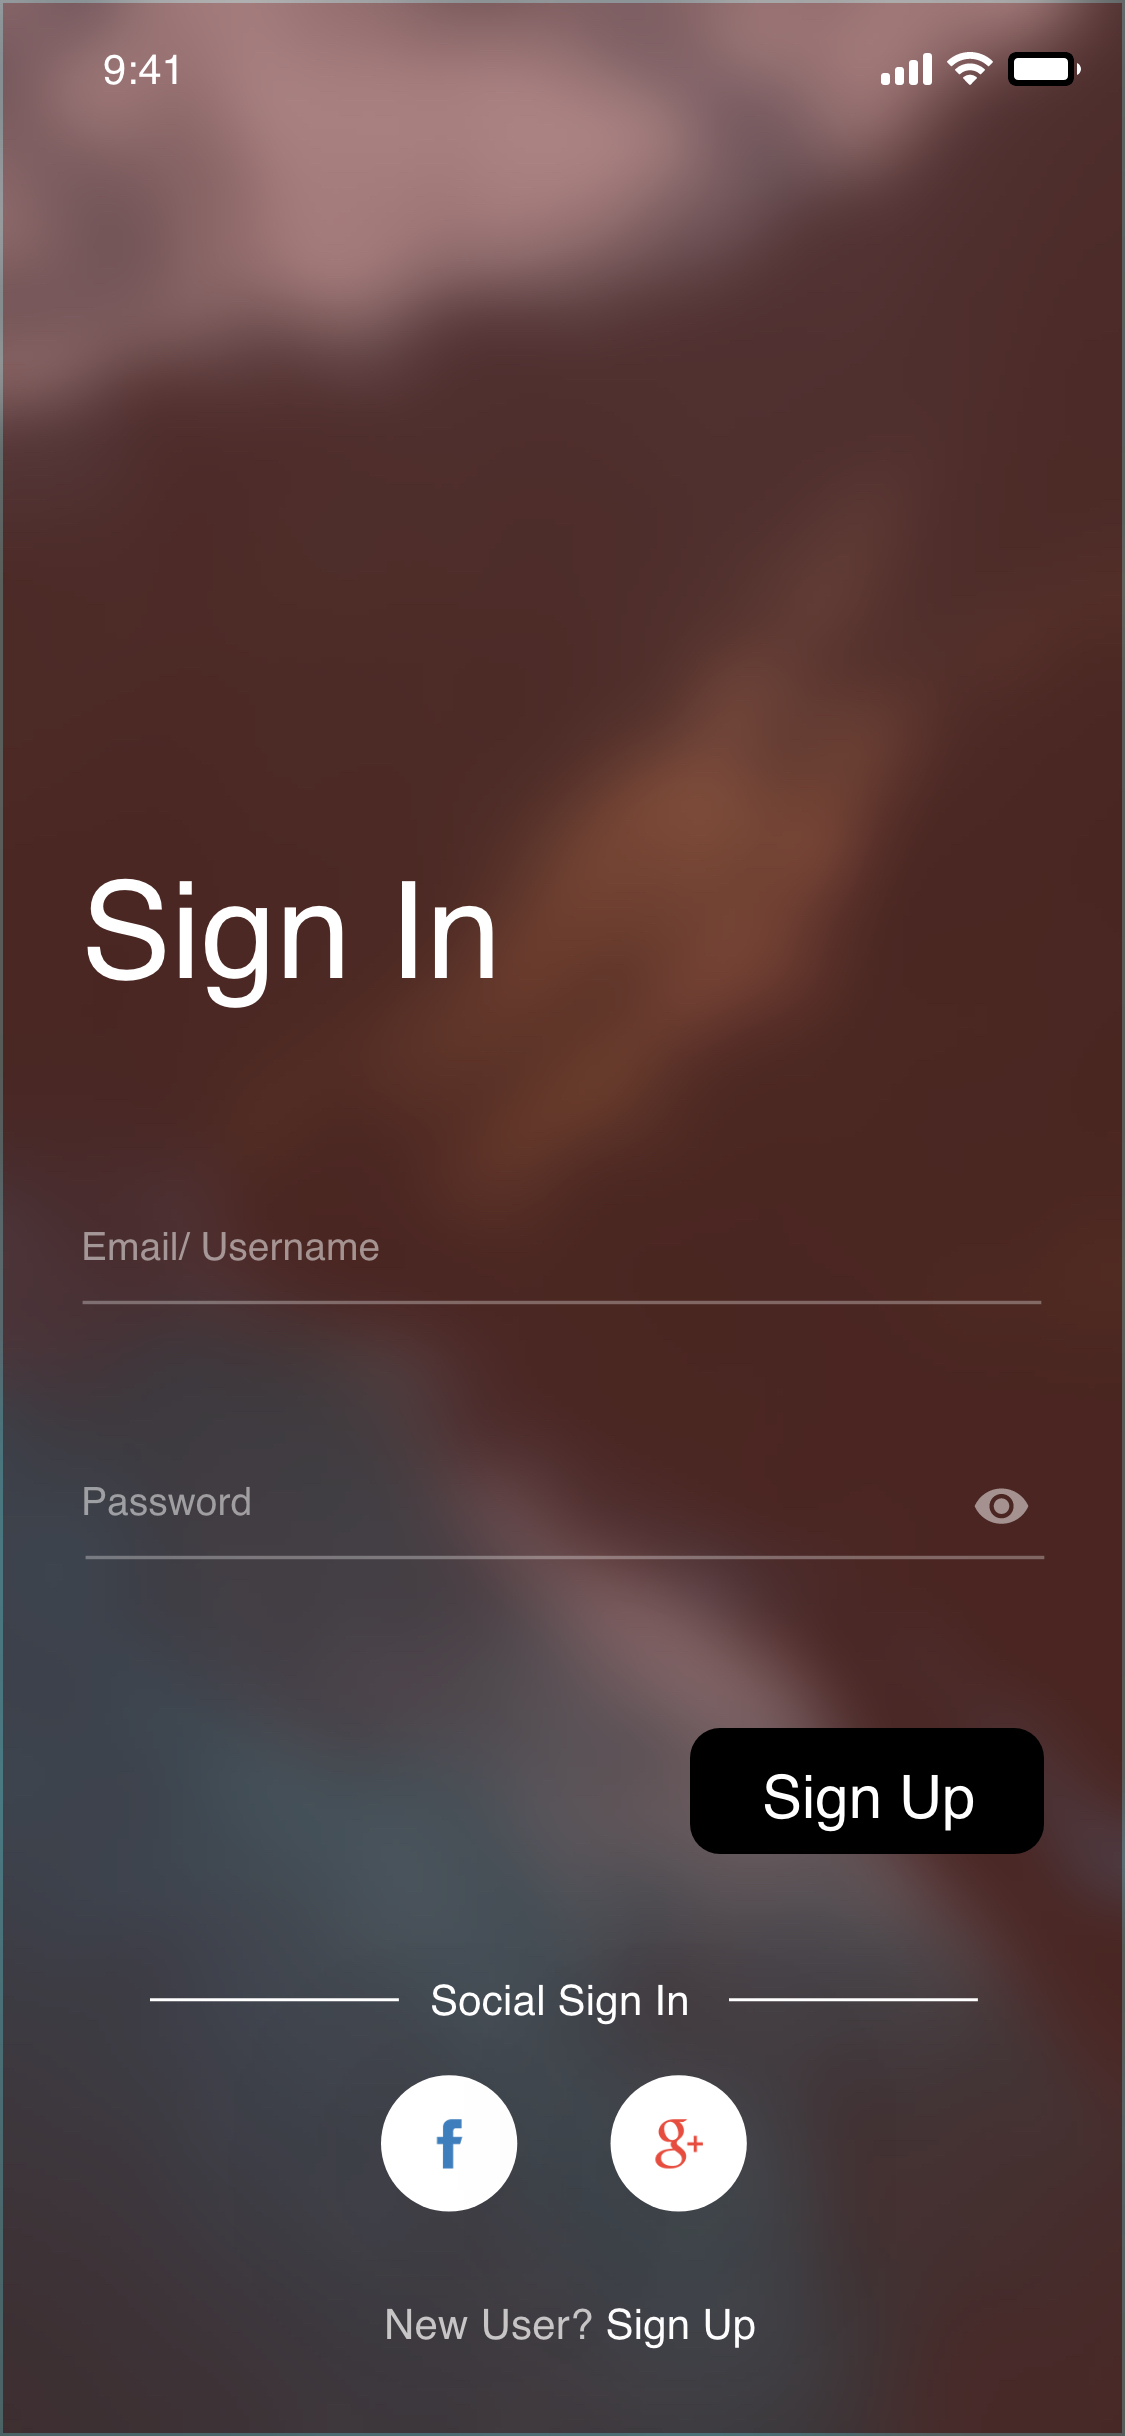BackgroundImage: (2, 2, 1125, 2436)
EditText: (82, 1230, 1043, 1307), (82, 1487, 1046, 1561)
Icon: (609, 2074, 747, 2212), (381, 2074, 519, 2212), (974, 1488, 1029, 1526)
Text: (87, 878, 496, 1010), (385, 2305, 757, 2351), (430, 1982, 688, 2026), (84, 1230, 379, 1261), (82, 1487, 252, 1516)
TextButton: (690, 1728, 1046, 1855)
UpperTaskBar: (104, 51, 1081, 89)
